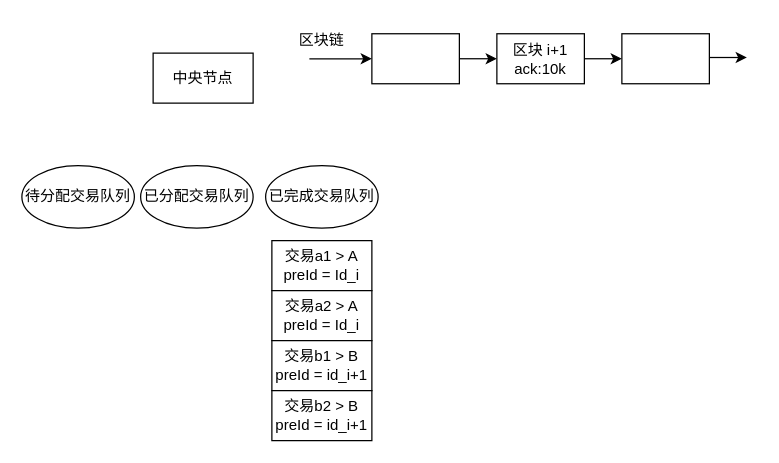
Some shapes in this 779 by 463 pixel diagram are drawn without their labels. Here are the shapes that lost their labels. From the top down, the box of each, then its label:
(371, 32, 459, 84): 区块 i ack: 10k
(621, 32, 709, 84): 区块 i+2 ack:10k
